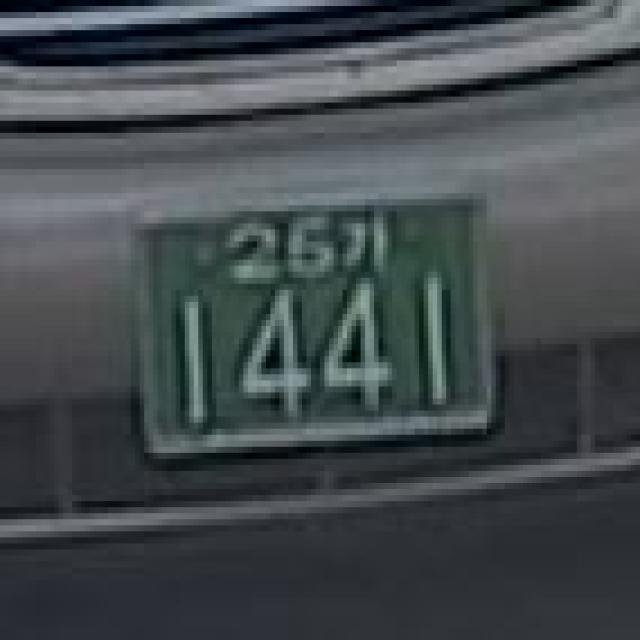illegal_plate: (128, 178, 506, 475)
